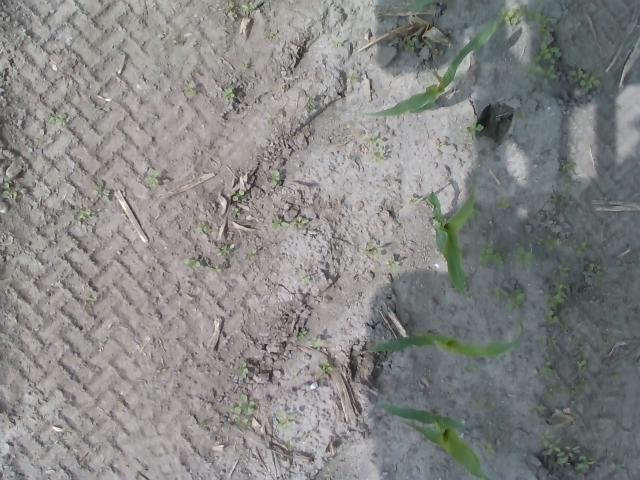Maize: (366, 20, 496, 121), (374, 398, 492, 479), (426, 188, 476, 295), (366, 330, 521, 361)
Weeds: (541, 428, 594, 478), (543, 264, 575, 326), (528, 29, 562, 81), (478, 238, 536, 268), (498, 3, 556, 28), (224, 392, 256, 427), (568, 350, 591, 398), (574, 239, 603, 277), (567, 66, 604, 90), (489, 284, 526, 308), (532, 232, 562, 260), (462, 114, 484, 144), (368, 132, 387, 162), (536, 360, 559, 382), (228, 188, 245, 216), (0, 174, 17, 200), (478, 439, 498, 461), (276, 412, 294, 432), (478, 392, 496, 411), (72, 209, 96, 223), (144, 170, 162, 186), (318, 358, 336, 374), (94, 184, 111, 200), (494, 195, 512, 210), (270, 216, 288, 230), (560, 160, 578, 174), (362, 242, 381, 255), (270, 168, 282, 188), (403, 36, 418, 52), (238, 0, 256, 13), (237, 359, 250, 377), (185, 256, 201, 270), (215, 244, 232, 257), (183, 80, 195, 98), (433, 136, 448, 150), (48, 117, 68, 127), (385, 258, 399, 272), (542, 334, 556, 348), (609, 369, 623, 382), (292, 214, 307, 226), (222, 87, 236, 99), (195, 222, 209, 234), (328, 37, 342, 49), (544, 386, 556, 400), (530, 404, 546, 414), (514, 110, 529, 120), (208, 264, 224, 273), (308, 96, 316, 114), (297, 329, 308, 342), (408, 195, 420, 205), (304, 340, 320, 346), (86, 294, 95, 304), (200, 420, 208, 428)
